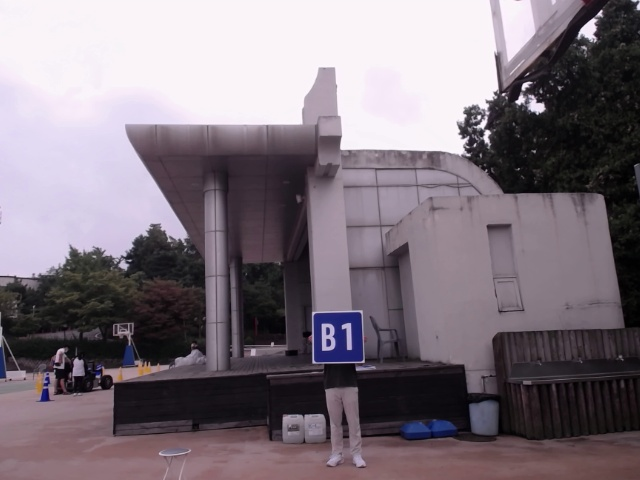delivery_b1: (311, 311, 364, 363)
